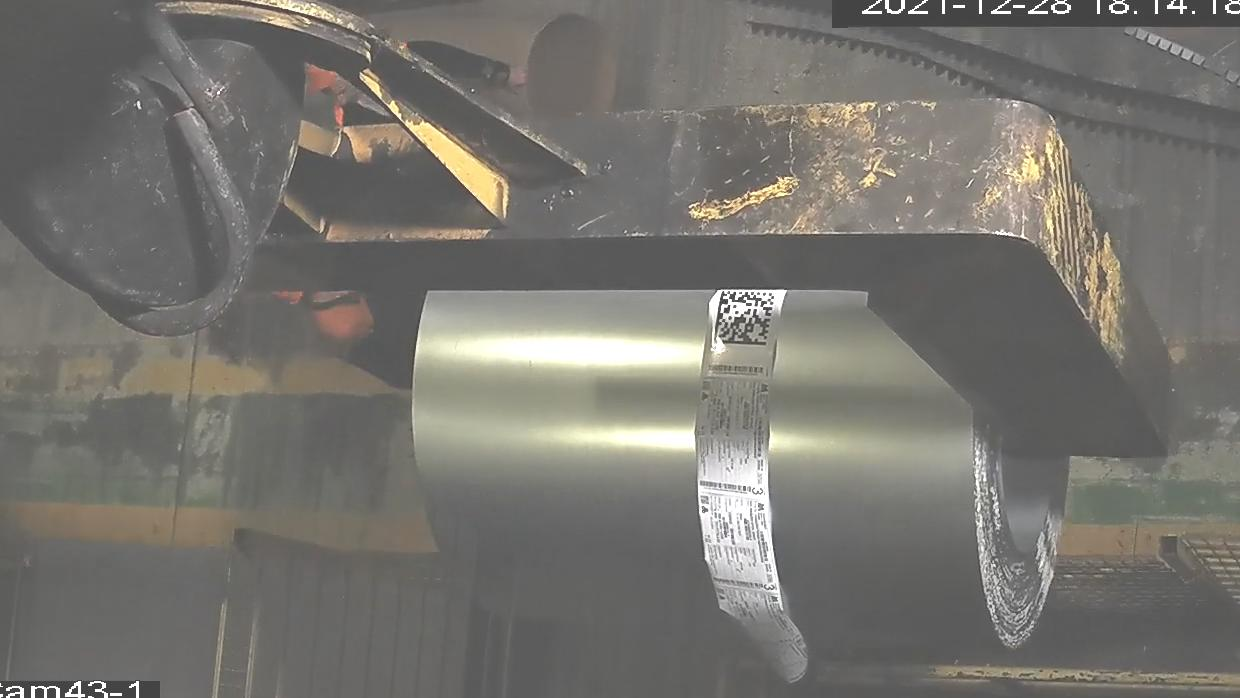data matrix: (712, 290, 777, 349)
